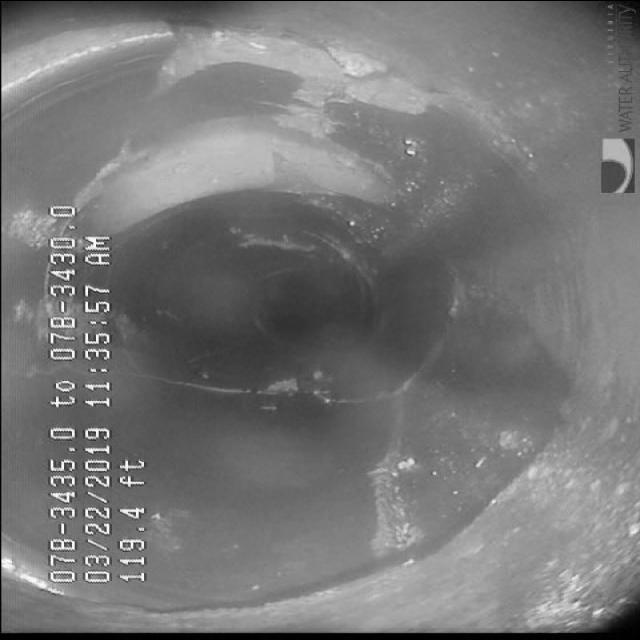Fracture: (340, 370, 456, 564)
